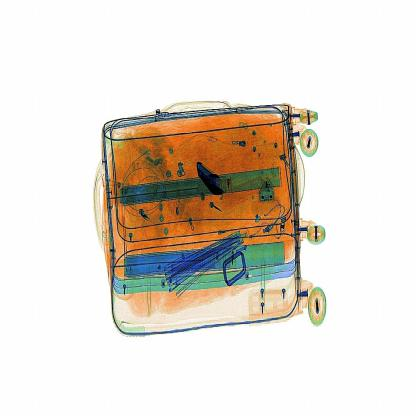pliers: (192, 152, 235, 210)
